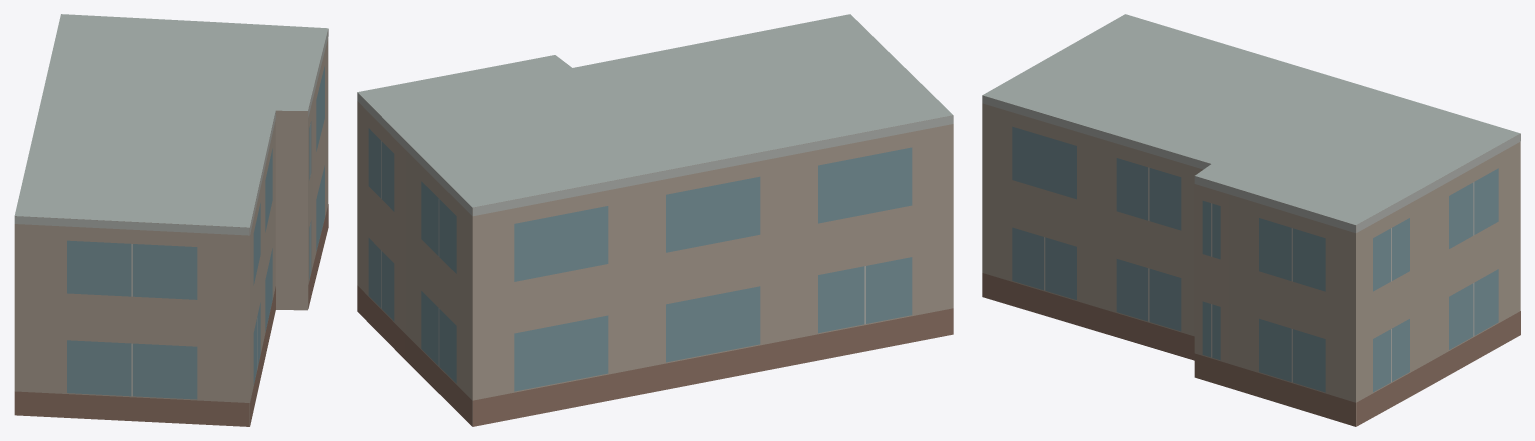
Rendered from survey-upis-32638976.glb.
3 renders of one model, left to right at view 1: azimuth 30°, elevation 25°; view 2: azimuth 150°, elevation 25°; view 3: azimuth 270°, elevation 25°, orthographic. The views are drawn at different scales.
Visible parts, largest first — view 1: survey-upis-32638976.tmp; view 2: survey-upis-32638976.tmp; view 3: survey-upis-32638976.tmp.
Part boxes in pixels (x1,y1,x2,y2): survey-upis-32638976.tmp: [14, 14, 328, 426]; survey-upis-32638976.tmp: [357, 14, 953, 426]; survey-upis-32638976.tmp: [982, 14, 1520, 426].
Size of the model in its own units: 13.71 by 6.1 by 14.77.
